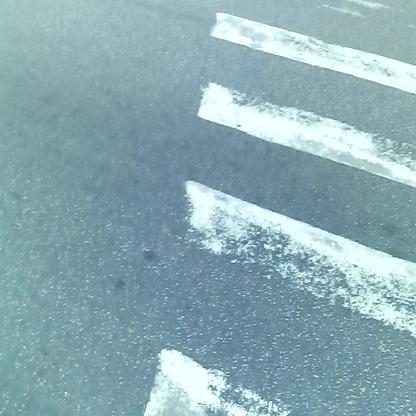crosswalk: (124, 8, 416, 416)
